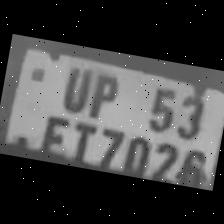0: (116, 126, 153, 175)
2: (144, 134, 180, 180)
3: (170, 81, 209, 140)
5: (140, 79, 178, 133)
6: (172, 141, 210, 186)
7: (90, 120, 127, 170)
E: (34, 106, 72, 156)
P: (82, 66, 124, 120)
T: (61, 115, 98, 165)
U: (54, 58, 94, 114)
